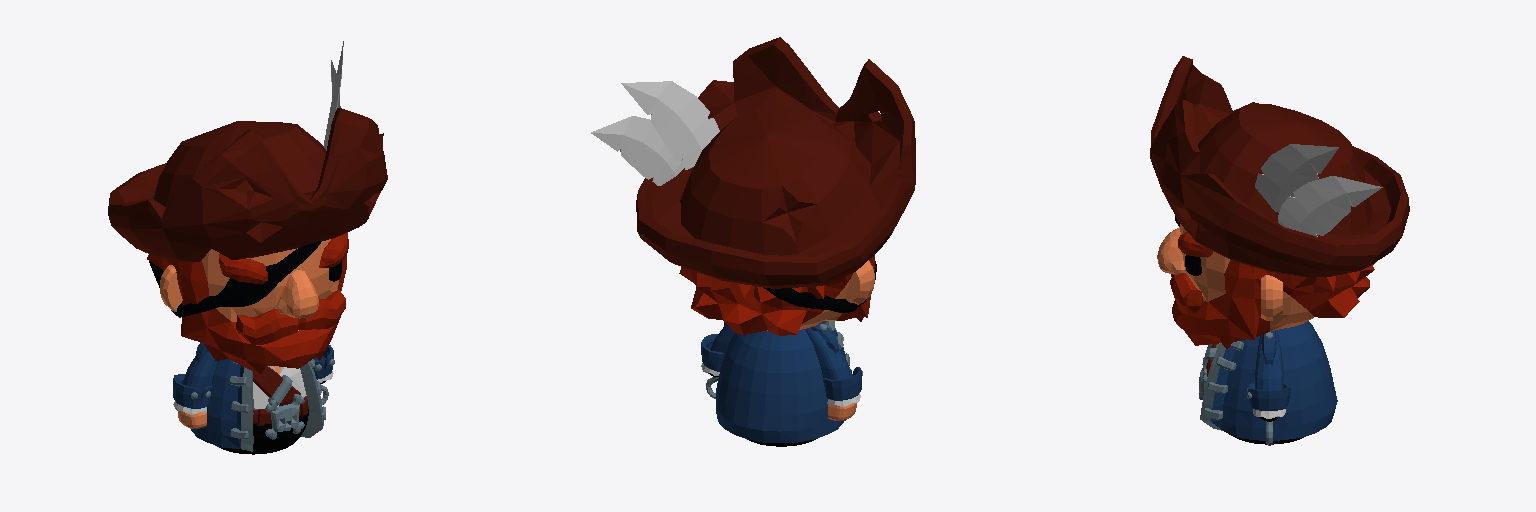
File: character_pirate.obj
The picture shows the model from 3 angles: view 1: azimuth 30°, elevation 25°; view 2: azimuth 150°, elevation 25°; view 3: azimuth 270°, elevation 25°; orthographic projection.
Visible parts, largest first — view 1: character_pirate_hat_Cube.212, character_pirate_head_Cube.186, character_pirate_body_Cube.200, character_pirate_armRight_Cube.211, character_pirate_armLeft_Cube.205; view 2: character_pirate_hat_Cube.212, character_pirate_body_Cube.200, character_pirate_head_Cube.186, character_pirate_armRight_Cube.211, character_pirate_armLeft_Cube.205; view 3: character_pirate_hat_Cube.212, character_pirate_head_Cube.186, character_pirate_body_Cube.200, character_pirate_armLeft_Cube.205.
Boxes of the visible parts, x1,y1,x2,y2 form: character_pirate_hat_Cube.212: [108, 41, 387, 261]; character_pirate_head_Cube.186: [147, 232, 348, 375]; character_pirate_body_Cube.200: [191, 359, 325, 454]; character_pirate_armRight_Cube.211: [173, 342, 217, 428]; character_pirate_armLeft_Cube.205: [314, 345, 334, 404]; character_pirate_hat_Cube.212: [591, 37, 915, 288]; character_pirate_body_Cube.200: [716, 321, 849, 446]; character_pirate_head_Cube.186: [679, 255, 876, 335]; character_pirate_armRight_Cube.211: [805, 323, 862, 420]; character_pirate_armLeft_Cube.205: [701, 322, 734, 398]; character_pirate_hat_Cube.212: [1150, 56, 1409, 277]; character_pirate_head_Cube.186: [1157, 216, 1375, 349]; character_pirate_body_Cube.200: [1199, 321, 1337, 444]; character_pirate_armLeft_Cube.205: [1247, 330, 1290, 445].
Size of the model in its own units: 1.62 by 2.14 by 1.44.